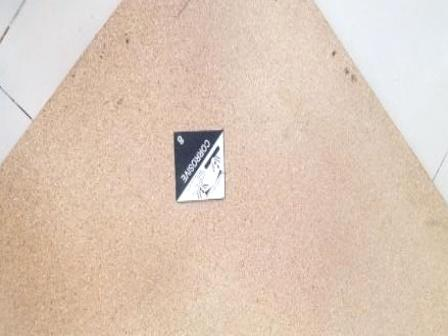corrosive: (172, 130, 227, 201)
